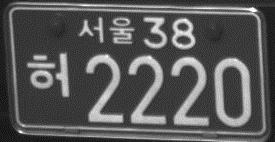0: (213, 56, 253, 127)
2: (170, 56, 213, 127), (85, 54, 126, 125), (128, 54, 168, 126)
3: (140, 14, 168, 50)
8: (170, 16, 196, 51)
서울_O: (78, 15, 136, 46)
허: (25, 50, 69, 100)
